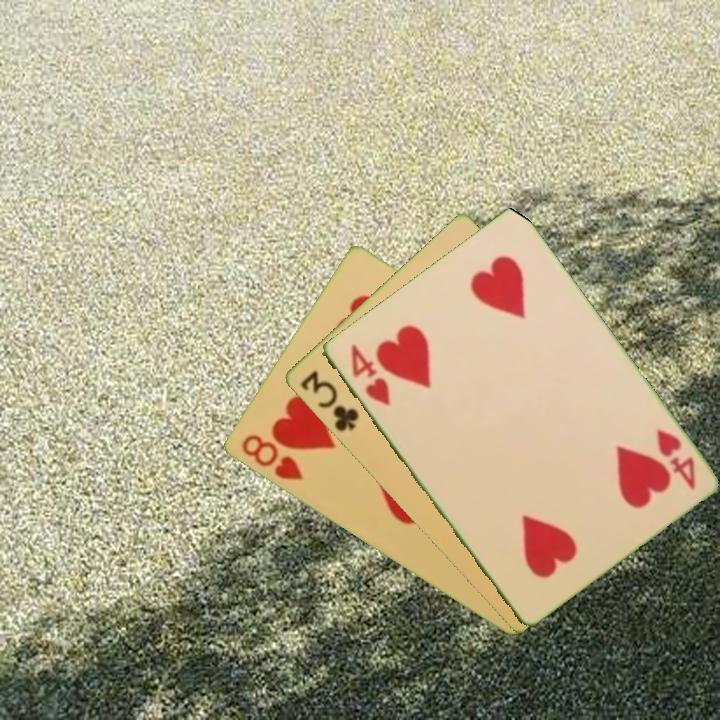3c: (296, 367, 362, 435)
4h: (346, 340, 393, 409), (652, 425, 698, 493)
8h: (237, 431, 306, 484)
